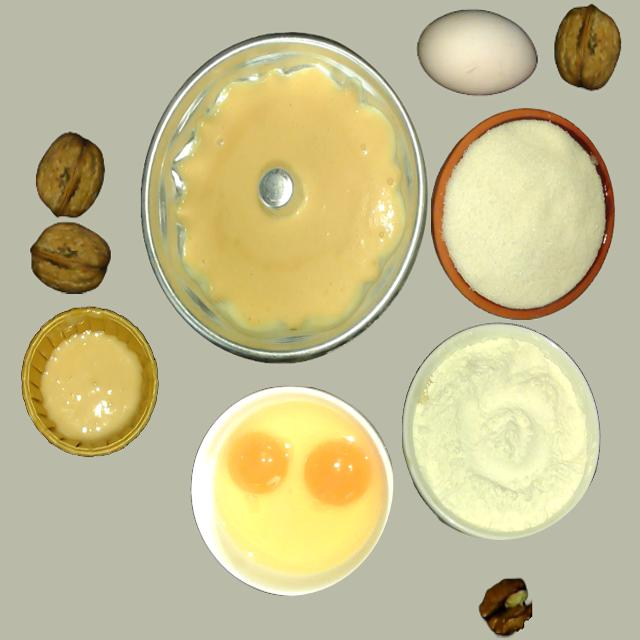Egg: (303, 440, 371, 506), (228, 432, 290, 494)
Flour: (401, 324, 600, 538)
Sugar: (429, 110, 613, 318)
Walnut: (36, 133, 105, 218), (29, 222, 110, 294), (554, 5, 620, 90)
